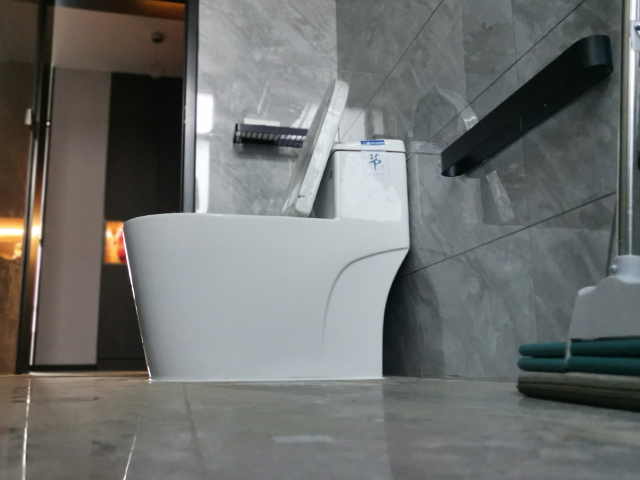closestool: (120, 78, 413, 384)
